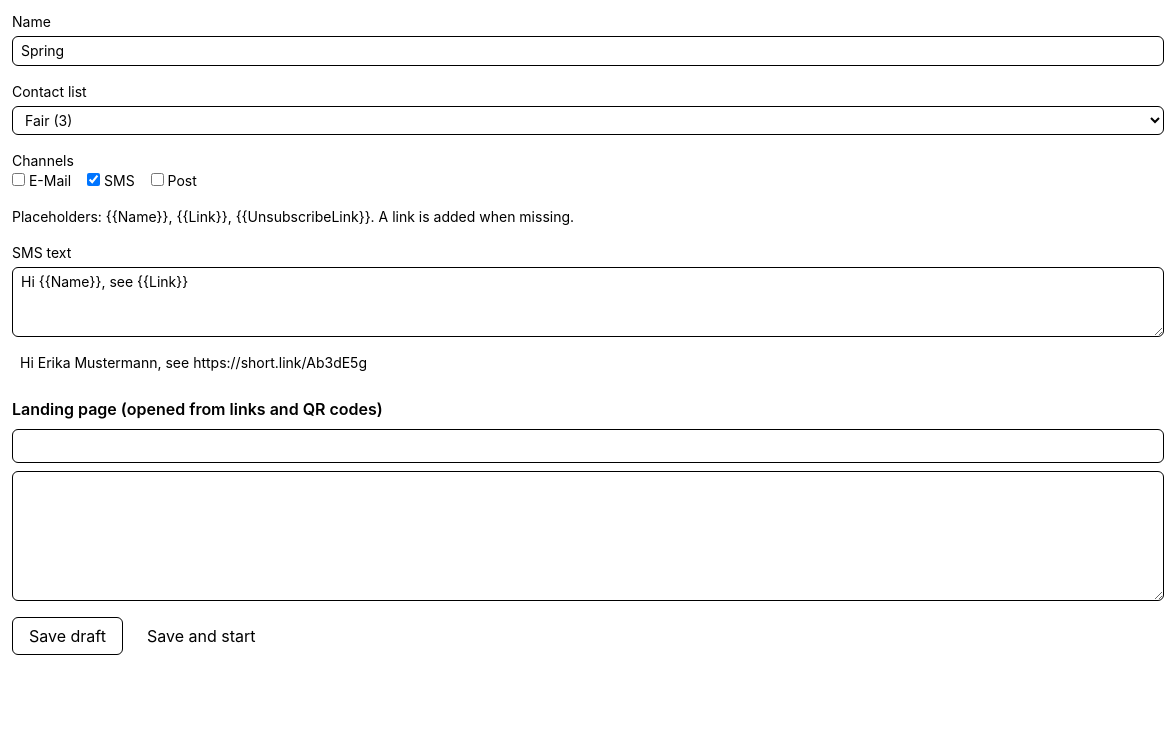
Test case: CampaignPage › previews the SMS with sample values and shows start validation errors
Check: the text "Hi Erika Mustermann, see https://short.link/Ab3dE5g" is shown, box [20,354,367,371]
Click the button "Save and start" at {"x": 201, "y": 636}, box [131,617,271,655]
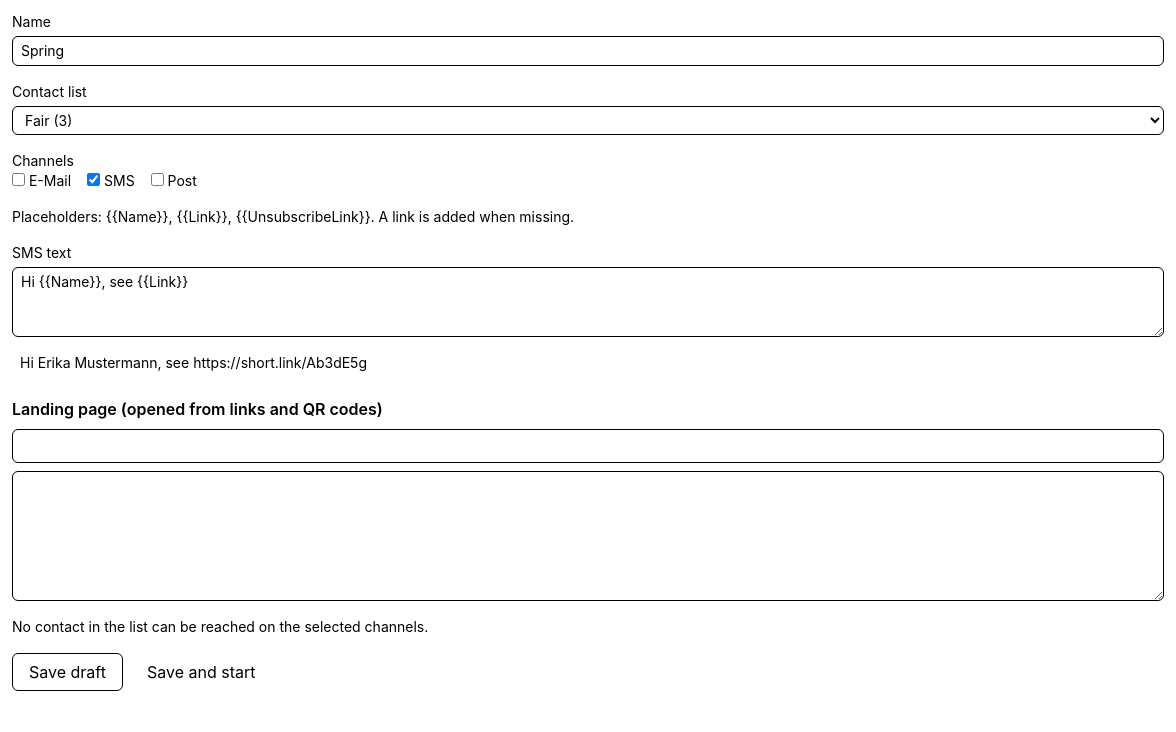
Check: the message shows "No contact in the list can be reached", box [12,618,428,635]
